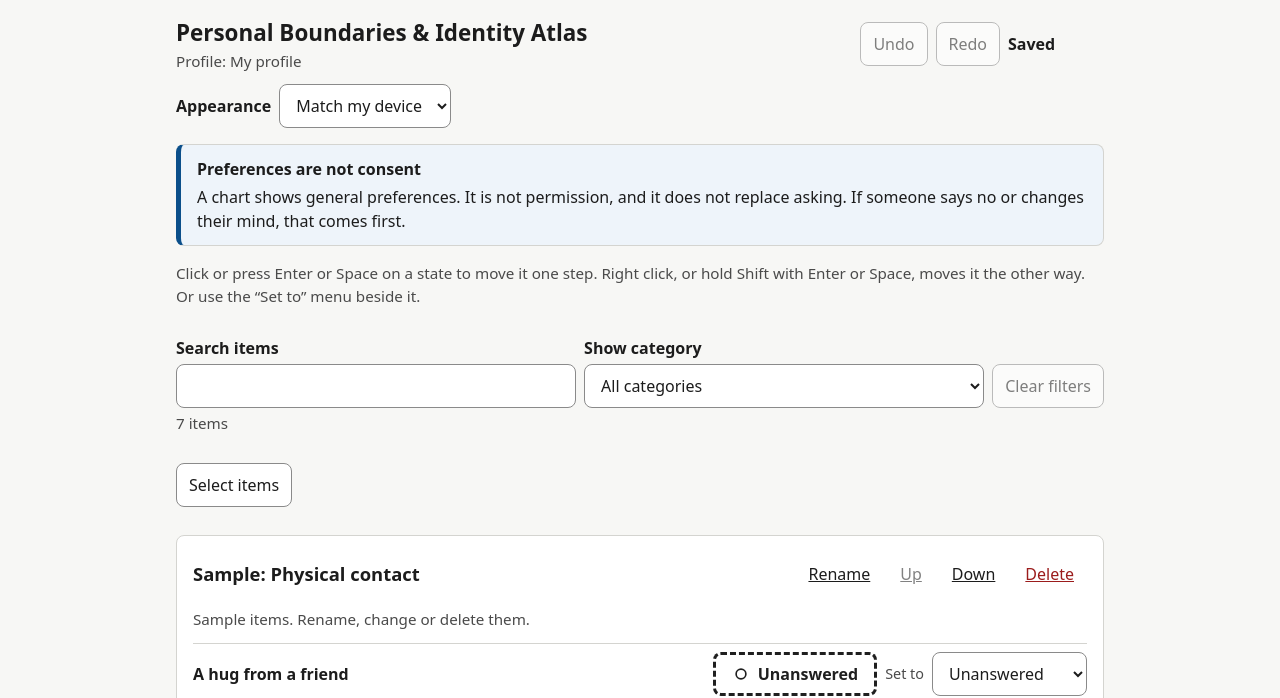
editing in two tabs (M1-AC-13) › stops saving, shows the conflict banner, and never overwrites the other tab
Check: the heading "Personal Boundaries & Identity Atlas" is shown, box [176,16,588,50]
Click the button "Unanswered" at (795, 674), box [713,652,877,696]
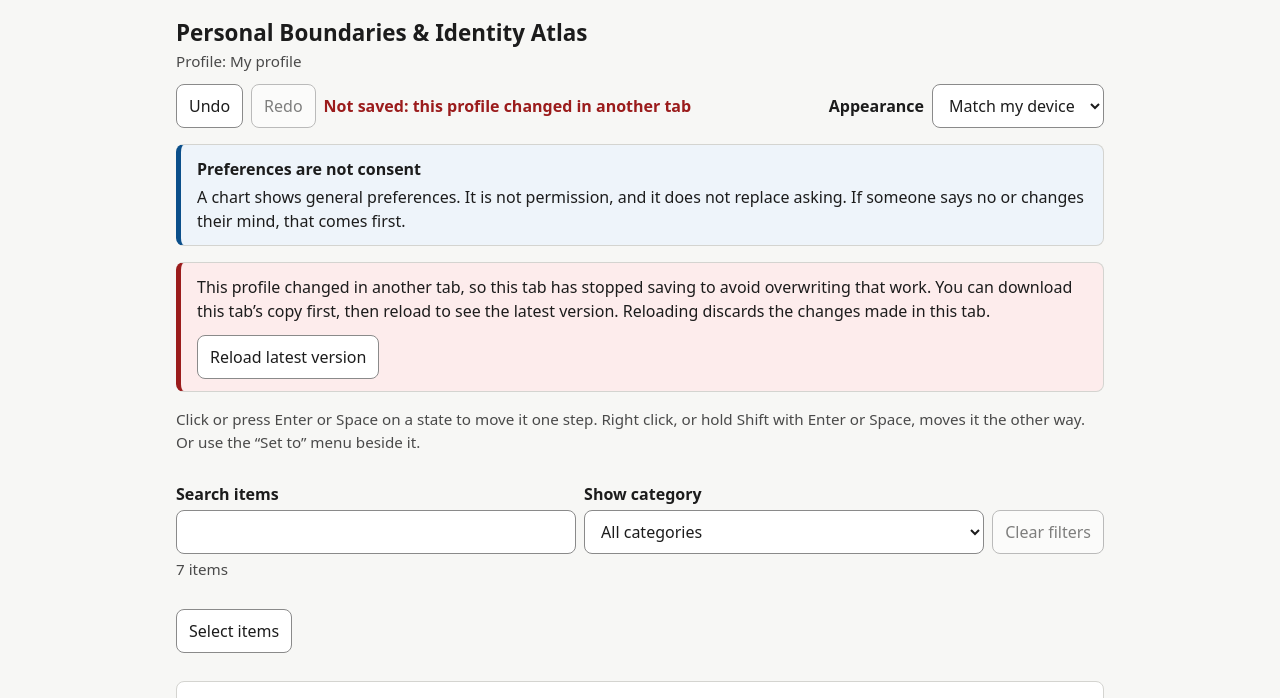
Check: the text with class "save-status" reads "Not saved: this profile changed in another tab", box [324,95,691,117]
Check: the button "Reload latest version" is shown, box [197,335,379,379]
